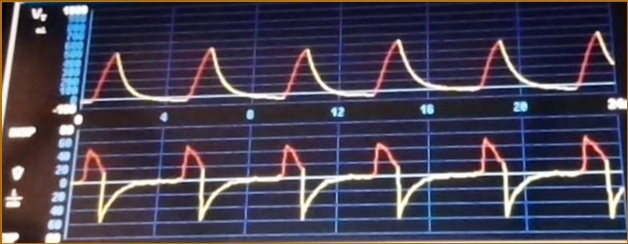Normal Flow: (76, 133, 624, 230)
Normal Volume: (87, 29, 615, 104)
